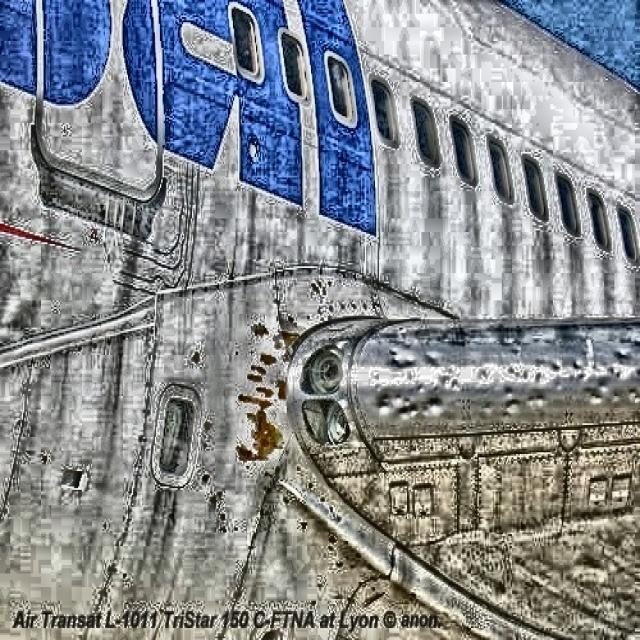dent: (380, 332, 640, 418)
